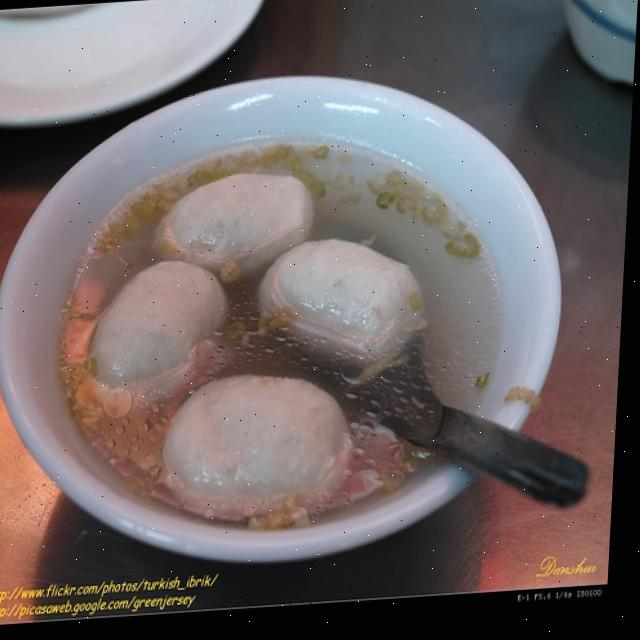熟制海鲜: (17, 76, 569, 570)
